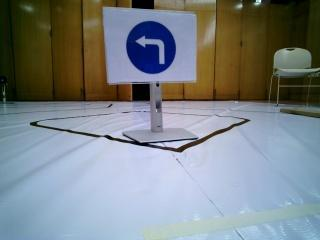left: (106, 9, 200, 82)
